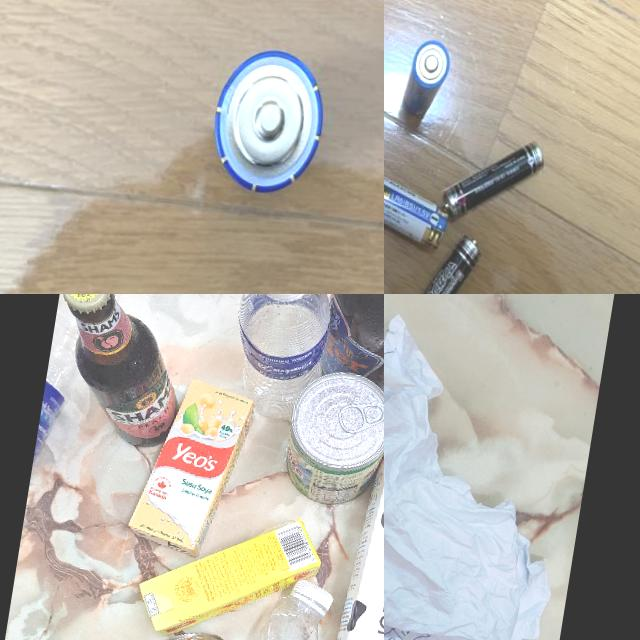aba de lata: (331, 380, 374, 434)
bateria: (202, 42, 332, 198), (437, 126, 551, 235), (384, 158, 456, 257), (390, 224, 483, 294), (399, 39, 454, 126)
caixinha: (128, 370, 258, 563), (143, 503, 323, 640), (320, 407, 384, 640)
garrafa de vidro: (37, 294, 200, 458), (311, 294, 384, 412)
garrafa plástica: (16, 294, 136, 577), (219, 294, 335, 424), (203, 590, 328, 640)
lata: (276, 365, 384, 511)
papel: (384, 295, 583, 640)
tampa plástica: (292, 581, 340, 615)
